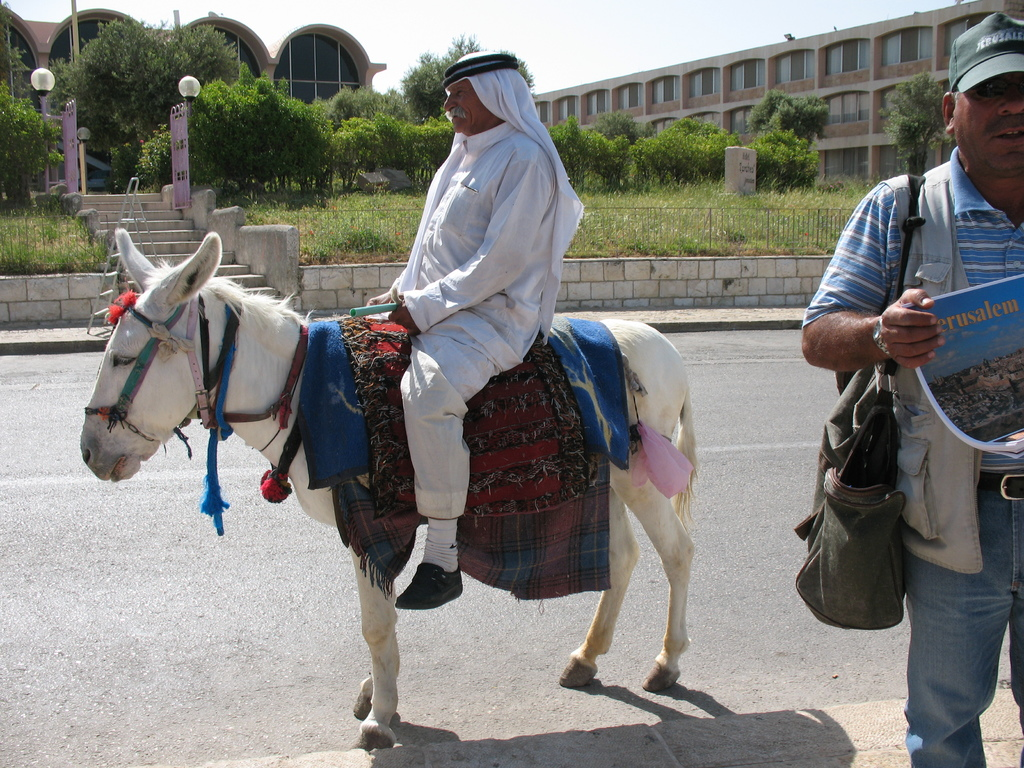Footwear: (394, 561, 470, 611)
